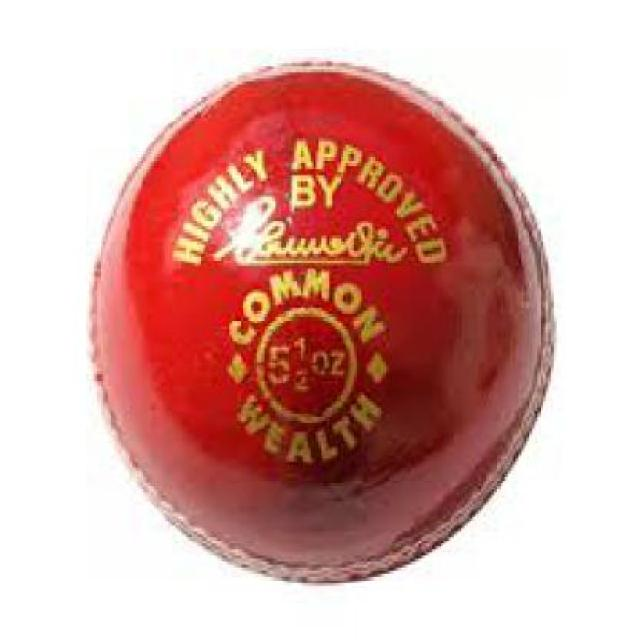ball: (62, 45, 578, 598)
